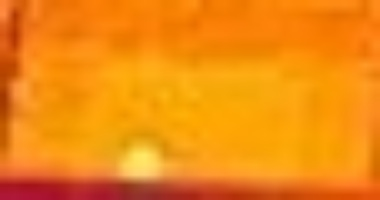Hotspot: (115, 136, 170, 185)
